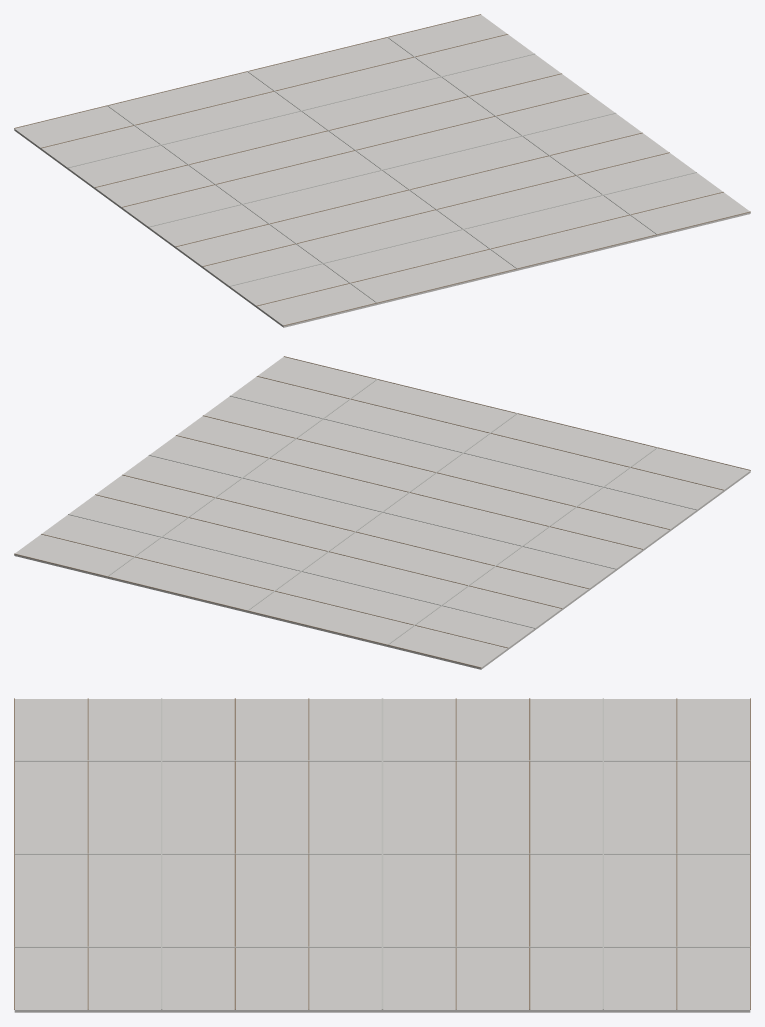
Rendered from bodenmuster.glb.
3 renders of one model, top to bottom at view 1: azimuth 30°, elevation 25°; view 2: azimuth 150°, elevation 25°; view 3: azimuth 270°, elevation 25°, orthographic. The views are drawn at different scales.
Bounding box in the file's own units: 2 × 0.01 × 2.
